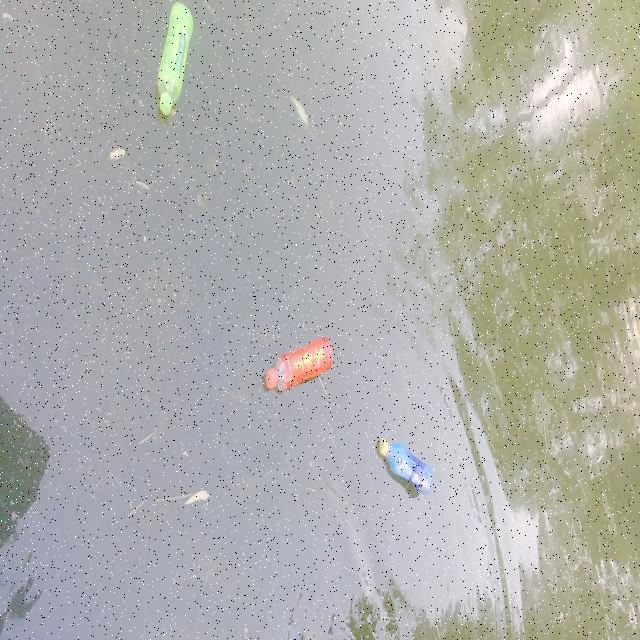Bottle: (155, 0, 193, 121), (375, 427, 434, 501), (261, 334, 336, 392)
